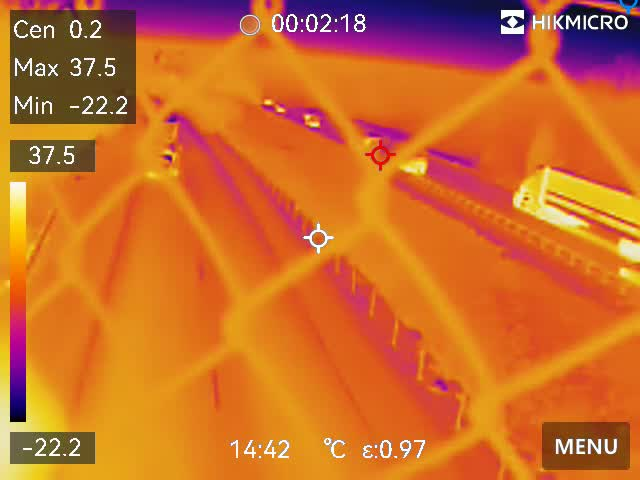heavyTruck: (513, 156, 640, 260)
